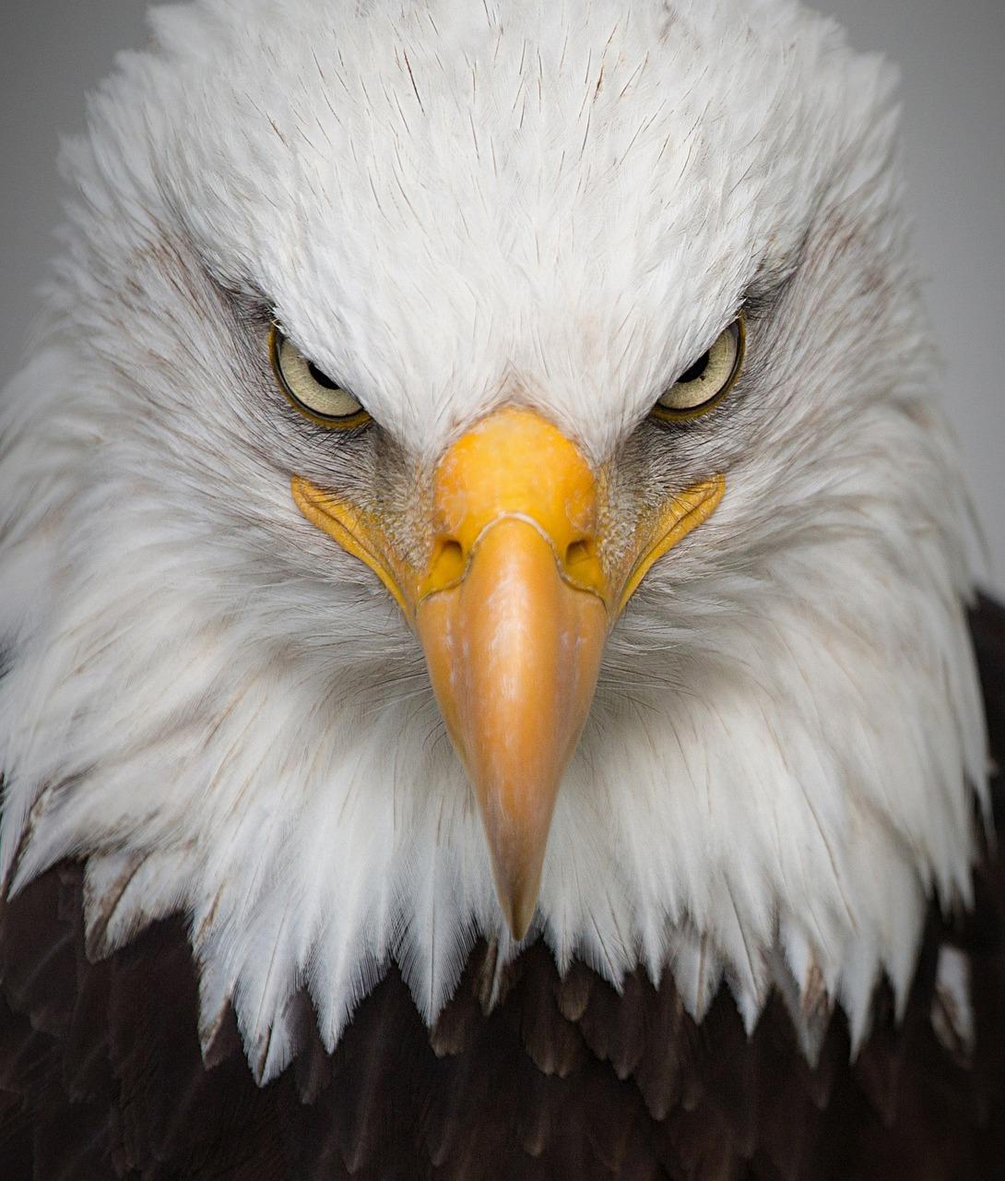bird: (0, 3, 1004, 1180)
